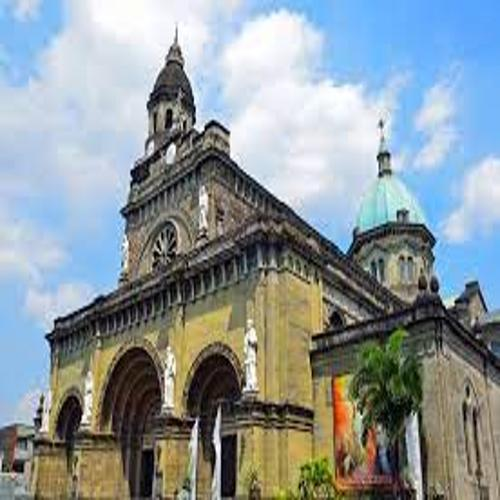Manila Cathedral Church: (11, 23, 496, 491)
